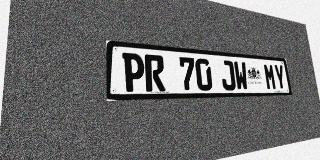0: (195, 58, 213, 91)
7: (178, 57, 197, 91)
J: (220, 60, 236, 91)
M: (263, 63, 277, 90)
P: (122, 52, 145, 92)
R: (144, 54, 166, 92)
W: (233, 61, 249, 90)
Y: (273, 64, 287, 90)
